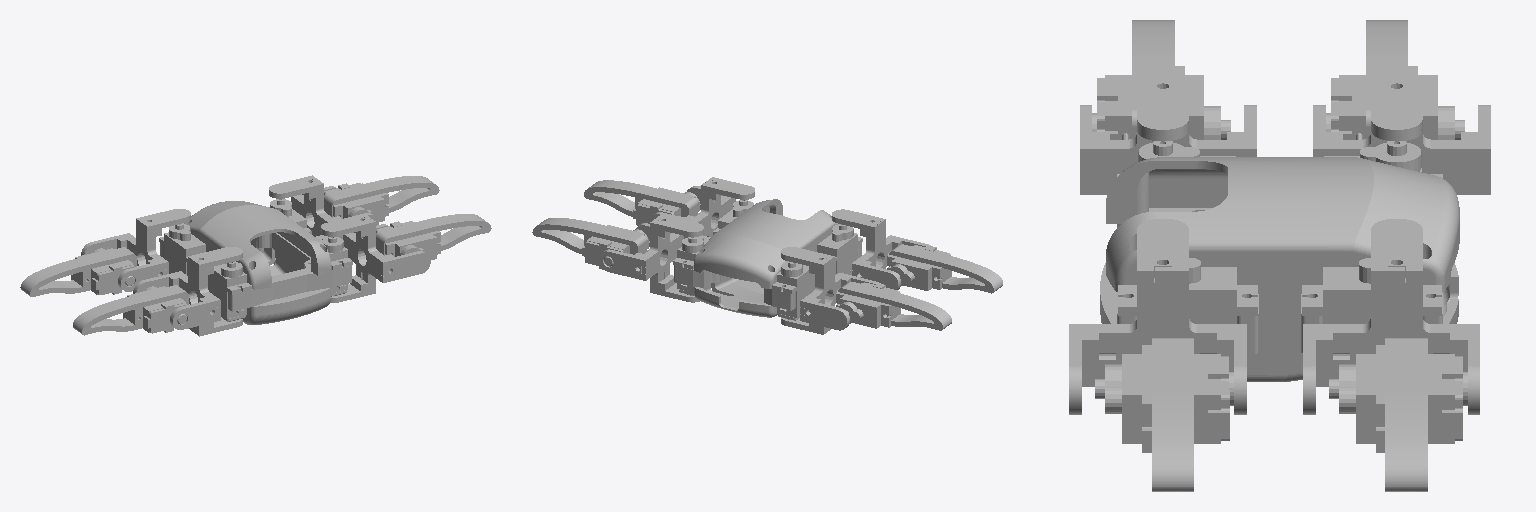
The robot description file, URDF, robot "spiderbot":
<?xml version="1.0" encoding="utf-8" ?>
<!-- This URDF was automatically created by SolidWorks to URDF Exporter! Originally created by [author] ([email redacted]) 
     Commit Version: 1.5.1-0-g916b5db  Build Version: 1.5.7152.31018
     For more information, please see http://wiki.ros.org/sw_urdf_exporter -->
<robot name="spiderbot">
    <link name="base_link">
        <inertial>
            <origin xyz="6.52377531783468E-05 -0.0021170715917473 0.0364107331720625" rpy="0 0 0" />
            <mass value="1.0797" />
            <inertia ixx="3.02647463521448E-05" ixy="1.57081847985685E-09" ixz="3.15890627766527E-11" iyy="1.78058902607528E-05" iyz="-1.01459254458863E-07" izz="4.36287378114362E-05" />
        </inertial>
        <visual>
            <origin xyz="0 0 0" rpy="0 0 0" />
            <geometry>
                <mesh filename="package://spiderbot/meshes/my_spider/base_link.STL" />
            </geometry>
            <material name="">
                <color rgba="0.752941176470588 0.752941176470588 0.752941176470588 1" />
            </material>
        </visual>
        <collision>
            <origin xyz="0 0 0" rpy="0 0 0" />
            <geometry>
                <mesh filename="package://spiderbot/meshes/my_spider/base_link.STL" />
            </geometry>
        </collision>
    </link>
    <link name="front_right_link0">
        <inertial>
            <origin xyz="-0.020499999920902 0.000389285101961867 0.0198892805772913" rpy="0 0 0" />
            <mass value="0.071655" />
            <inertia ixx="7.56087099566393E-07" ixy="2.42840649896817E-09" ixz="-2.42840649896825E-09" iyy="5.95760525058341E-07" iyz="2.50084225320641E-09" izz="5.95760523642093E-07" />
        </inertial>
        <visual>
            <origin xyz="0 0 0" rpy="0 0 0" />
            <geometry>
                <mesh filename="package://spiderbot/meshes/my_spider/r1.STL" />
            </geometry>
            <material name="">
                <color rgba="0.752941176470588 0.752941176470588 0.752941176470588 1" />
            </material>
        </visual>
        <collision>
            <origin xyz="0 0 0" rpy="0 0 0" />
            <geometry>
                <mesh filename="package://spiderbot/meshes/my_spider/r1.STL" />
            </geometry>
        </collision>
    </link>
    <joint name="joint_front_right_link0" type="revolute">
        <origin xyz="-0.030488 -0.027296 0.0193" rpy="0 0 0" />
        <parent link="base_link" />
        <child link="front_right_link0" />
        <axis xyz="0 0 -1" />
        <limit lower="-0.5236" upper="0.5236" effort="2" velocity="0.02" />
    </joint>
    <link name="front_right_link1">
        <inertial>
            <origin xyz="-0.0103855500283455 0.0172280687962712 0.000907834339010391" rpy="0 0 0" />
            <mass value="0.069773" />
            <inertia ixx="6.06191507620996E-07" ixy="-2.6357706811751E-08" ixz="-4.62613535616074E-08" iyy="2.09883870458556E-06" iyz="-5.7703659796975E-16" izz="2.33635633104651E-06" />
        </inertial>
        <visual>
            <origin xyz="0 0 0" rpy="0 0 0" />
            <geometry>
                <mesh filename="package://spiderbot/meshes/my_spider/sr1.STL" />
            </geometry>
            <material name="">
                <color rgba="0.752941176470588 0.752941176470588 0.752941176470588 1" />
            </material>
        </visual>
        <collision>
            <origin xyz="0 0 0" rpy="0 0 0" />
            <geometry>
                <mesh filename="package://spiderbot/meshes/my_spider/sr1.STL" />
            </geometry>
        </collision>
    </link>
    <joint name="joint_front_right_link1" type="revolute">
        <origin xyz="-0.041 -0.0195 0.0195" rpy="0 0 0" />
        <parent link="front_right_link0" />
        <child link="front_right_link1" />
        <axis xyz="0 -1 0" />
        <limit lower="-0.523599" upper="0.523599" effort="2" velocity="0.02" />
    </joint>
    <!-- left link front -->
    <link name="front_left_link0">
        <inertial>
            <origin xyz="-0.020499999920902 0.000389285101961867 0.0198892805772913" rpy="0 0 0" />
            <mass value="0.071655" />
            <inertia ixx="7.56087099566393E-07" ixy="2.42840649896817E-09" ixz="-2.42840649896825E-09" iyy="5.95760525058341E-07" iyz="2.50084225320641E-09" izz="5.95760523642093E-07" />
        </inertial>
        <visual>
            <origin xyz="0 0 0" rpy="0 0 0" />
            <geometry>
                <mesh filename="package://spiderbot/meshes/my_spider/r1.STL" />
            </geometry>
            <material name="">
                <color rgba="0.752941176470588 0.752941176470588 0.752941176470588 1" />
            </material>
        </visual>
        <collision>
            <origin xyz="0 0 0" rpy="0 0 0" />
            <geometry>
                <mesh filename="package://spiderbot/meshes/my_spider/r1.STL" />
            </geometry>
        </collision>
    </link>
    <joint name="joint_front_left_link0" type="revolute">
        <origin xyz="0.030488 -0.027296 0.0193" rpy="0 0 3.1417" />
        <parent link="base_link" />
        <child link="front_left_link0" />
        <axis xyz="0 0 -1" />
        <limit lower="-0.523599" upper="0.523599" effort="2" velocity="0.02" />
    </joint>
    <link name="front_left_link1">
        <inertial>
            <origin xyz="-0.0103855500283455 0.0172280687962712 0.000907834339010391" rpy="0 0 0" />
            <mass value="0.069773" />
            <inertia ixx="6.06191507620996E-07" ixy="-2.6357706811751E-08" ixz="-4.62613535616074E-08" iyy="2.09883870458556E-06" iyz="-5.7703659796975E-16" izz="2.33635633104651E-06" />
        </inertial>
        <visual>
            <origin xyz="0 0 0" rpy="0 0 0" />
            <geometry>
                <mesh filename="package://spiderbot/meshes/my_spider/sr1.STL" />
            </geometry>
            <material name="">
                <color rgba="0.752941176470588 0.752941176470588 0.752941176470588 1" />
            </material>
        </visual>
        <collision>
            <origin xyz="0 0 0" rpy="0 0 0" />
            <geometry>
                <mesh filename="package://spiderbot/meshes/my_spider/sr1.STL" />
            </geometry>
        </collision>
    </link>
    <joint name="joint_front_left_link1" type="revolute">
        <origin xyz="-0.041 -0.0195 0.0195" rpy="0 0 0" />
        <parent link="front_left_link0" />
        <child link="front_left_link1" />
        <axis xyz="0 -1 0" />
        <limit lower="-0.523599" upper="0.523599" effort="2" velocity="0.02" />
    </joint>
    <link name="rear_right_link0">
        <inertial>
            <origin xyz="-0.020499999920902 0.000389285101961867 0.0198892805772913" rpy="0 0 0" />
            <mass value="0.071655" />
            <inertia ixx="7.56087099566393E-07" ixy="2.42840649896817E-09" ixz="-2.42840649896825E-09" iyy="5.95760525058341E-07" iyz="2.50084225320641E-09" izz="5.95760523642093E-07" />
        </inertial>
        <visual>
            <origin xyz="0 0 0" rpy="0 0 0" />
            <geometry>
                <mesh filename="package://spiderbot/meshes/my_spider/r1.STL" />
            </geometry>
            <material name="">
                <color rgba="0.752941176470588 0.752941176470588 0.752941176470588 1" />
            </material>
        </visual>
        <collision>
            <origin xyz="0 0 0" rpy="0 0 0" />
            <geometry>
                <mesh filename="package://spiderbot/meshes/my_spider/r1.STL" />
            </geometry>
        </collision>
    </link>
    <joint name="joint_rear_right_link0" type="revolute">
        <origin xyz="-0.030488 0.027296 0.0193" rpy="0 0 0" />
        <parent link="base_link" />
        <child link="rear_right_link0" />
        <axis xyz="0 0 -1" />
        <limit lower="-0.523599" upper="0.523599" effort="2" velocity="0.02" />
    </joint>
    <link name="rear_right_link1">
        <inertial>
            <origin xyz="-0.0103855500283455 0.0172280687962712 0.000907834339010391" rpy="0 0 0" />
            <mass value="0.069773" />
            <inertia ixx="6.06191507620996E-07" ixy="-2.6357706811751E-08" ixz="-4.62613535616074E-08" iyy="2.09883870458556E-06" iyz="-5.7703659796975E-16" izz="2.33635633104651E-06" />
        </inertial>
        <visual>
            <origin xyz="0 0 0" rpy="0 0 0" />
            <geometry>
                <mesh filename="package://spiderbot/meshes/my_spider/sr1.STL" />
            </geometry>
            <material name="">
                <color rgba="0.752941176470588 0.752941176470588 0.752941176470588 1" />
            </material>
        </visual>
        <collision>
            <origin xyz="0 0 0" rpy="0 0 0" />
            <geometry>
                <mesh filename="package://spiderbot/meshes/my_spider/sr1.STL" />
            </geometry>
        </collision>
    </link>
    <joint name="joint_rear_right_link1" type="revolute">
        <origin xyz="-0.041 -0.0195 0.0195" rpy="0 0 0" />
        <parent link="rear_right_link0" />
        <child link="rear_right_link1" />
        <axis xyz="0 -1 0" />
        <limit lower="-0.5236" upper="0.5236" effort="2" velocity="0.02" />
    </joint>
    <!-- back left -->
    <link name="rear_left_link0">
        <inertial>
            <origin xyz="-0.020499999920902 0.000389285101961867 0.0198892805772913" rpy="0 0 0" />
            <mass value="0.071655" />
            <inertia ixx="7.56087099566393E-07" ixy="2.42840649896817E-09" ixz="-2.42840649896825E-09" iyy="5.95760525058341E-07" iyz="2.50084225320641E-09" izz="5.95760523642093E-07" />
        </inertial>
        <visual>
            <origin xyz="0 0 0" rpy="0 0 0" />
            <geometry>
                <mesh filename="package://spiderbot/meshes/my_spider/r1.STL" />
            </geometry>
            <material name="">
                <color rgba="0.752941176470588 0.752941176470588 0.752941176470588 1" />
            </material>
        </visual>
        <collision>
            <origin xyz="0 0 0" rpy="0 0 0" />
            <geometry>
                <mesh filename="package://spiderbot/meshes/my_spider/r1.STL" />
            </geometry>
        </collision>
    </link>
    <joint name="joint_rear_left_link0" type="revolute">
        <origin xyz="0.030488 0.027296 0.0193" rpy="0 0 3.1417" />
        <parent link="base_link" />
        <child link="rear_left_link0" />
        <axis xyz="0 0 -1" />
        <limit lower="-0.523599" upper="0.523599" effort="2" velocity="0.02" />
    </joint>
    <link name="rear_left_link1">
        <inertial>
            <origin xyz="-0.0103855500283455 0.0172280687962712 0.000907834339010391" rpy="0 0 0" />
            <mass value="0.069773" />
            <inertia ixx="6.06191507620996E-07" ixy="-2.6357706811751E-08" ixz="-4.62613535616074E-08" iyy="2.09883870458556E-06" iyz="-5.7703659796975E-16" izz="2.33635633104651E-06" />
        </inertial>
        <visual>
            <origin xyz="0 0 0" rpy="0 0 0" />
            <geometry>
                <mesh filename="package://spiderbot/meshes/my_spider/sr1.STL" />
            </geometry>
            <material name="">
                <color rgba="0.752941176470588 0.752941176470588 0.752941176470588 1" />
            </material>
        </visual>
        <collision>
            <origin xyz="0 0 0" rpy="0 0 0" />
            <geometry>
                <mesh filename="package://spiderbot/meshes/my_spider/sr1.STL" />
            </geometry>
        </collision>
    </link>
    <joint name="joint_rear_left_link1" type="revolute">
        <origin xyz="-0.041 -0.0195 0.0195" rpy="0 0 0" />
        <parent link="rear_left_link0" />
        <child link="rear_left_link1" />
        <axis xyz="0 -1 0" />
        <limit lower="-0.523599" upper="0.523599" effort="2" velocity="0.02" />
    </joint>
   
    <!--Transmission Definitions -->
 <!--Transmission Front Right Links -->
 <transmission name="transmission_front_right_link0">
  <type>SimpleTransmission</type>
  <joint name="joint_front_right_link0">
    <hardwareInterface>hardware_interface/EffortJointInterface</hardwareInterface>
  </joint>
  <actuator name="motor_front_right_link0">
    <mechanicalReduction>1</mechanicalReduction>
    <hardwareInterface>VelocityJointInterface</hardwareInterface>
  </actuator>
</transmission>

<transmission name="transmission_front_right_link1">
  <type>SimpleTransmission</type>
  <joint name="joint_front_right_link1">
    <hardwareInterface>hardware_interface/EffortJointInterface</hardwareInterface>
  </joint>
  <actuator name="motor_front_right_link1">
    <mechanicalReduction>1</mechanicalReduction>
    <hardwareInterface>VelocityJointInterface</hardwareInterface>
  </actuator>
</transmission>

<!--Transmission Front Left Links -->
<transmission name="transmission_front_left_link0">
  <type>SimpleTransmission</type>
  <joint name="joint_front_left_link0">
    <hardwareInterface>hardware_interface/EffortJointInterface</hardwareInterface>
  </joint>
  <actuator name="motor_front_left_link0">
    <mechanicalReduction>1</mechanicalReduction>
    <hardwareInterface>VelocityJointInterface</hardwareInterface>
  </actuator>
</transmission>

<transmission name="transmission_front_left_link1">
  <type>SimpleTransmission</type>
  <joint name="joint_front_left_link1">
    <hardwareInterface>hardware_interface/EffortJointInterface</hardwareInterface>
  </joint>
  <actuator name="motor_front_left_link1">
    <mechanicalReduction>1</mechanicalReduction>
    <hardwareInterface>VelocityJointInterface</hardwareInterface>
  </actuator>
</transmission>

  <!--Transmission Rear Right Links -->
<transmission name="transmission_rear_right_link0">
  <type>SimpleTransmission</type>
  <joint name="joint_rear_right_link0">
    <hardwareInterface>hardware_interface/EffortJointInterface</hardwareInterface>
  </joint>
  <actuator name="motor_rear_right_link0">
    <mechanicalReduction>1</mechanicalReduction>
    <hardwareInterface>VelocityJointInterface</hardwareInterface>
  </actuator>
</transmission>

<transmission name="transmission_rear_right_link1">
  <type>SimpleTransmission</type>
  <joint name="joint_rear_right_link1">
    <hardwareInterface>hardware_interface/EffortJointInterface</hardwareInterface>
  </joint>
  <actuator name="motor_rear_right_link1">
    <mechanicalReduction>1</mechanicalReduction>
    <hardwareInterface>VelocityJointInterface</hardwareInterface>
  </actuator>
</transmission>

<!--Transmission Rear Left Links -->
<transmission name="transmission_rear_left_link0">
  <type>SimpleTransmission</type>
  <joint name="joint_rear_left_link0">
    <hardwareInterface>hardware_interface/EffortJointInterface</hardwareInterface>
  </joint>
  <actuator name="motor_rear_left_link0">
    <mechanicalReduction>1</mechanicalReduction>
    <hardwareInterface>VelocityJointInterface</hardwareInterface>
  </actuator>
</transmission>

<transmission name="transmission_rear_left_link1">
  <type>SimpleTransmission</type>
  <joint name="joint_rear_left_link1">
    <hardwareInterface>hardware_interface/EffortJointInterface</hardwareInterface>
  </joint>
  <actuator name="motor_rear_left_link1">
    <mechanicalReduction>1</mechanicalReduction>
    <hardwareInterface>VelocityJointInterface</hardwareInterface>
  </actuator>
</transmission>
</robot>

--- Facts derived from the render (not from the file) ---
The picture shows the robot from 3 angles, left to right: view 1: azimuth 30°, elevation 25°; view 2: azimuth 150°, elevation 25°; view 3: azimuth 270°, elevation 25°; orthographic projection.
Model spiderbot with 9 links and 8 joints (8 revolute), rooted at base_link, posed every joint at zero.
Links seen in each view (by area): view 1: base_link, front_left_link0, front_right_link0, front_right_link1, rear_right_link1, front_left_link1, rear_left_link1, rear_right_link0, rear_left_link0; view 2: base_link, rear_left_link0, rear_right_link1, front_right_link1, rear_right_link0, rear_left_link1, front_left_link1, front_right_link0, front_left_link0; view 3: base_link, rear_left_link1, front_left_link1, front_left_link0, rear_left_link0, rear_right_link0, front_right_link0, front_right_link1, rear_right_link1.
Boxes of the visible links, bbox=[...] form: base_link: bbox=[159, 199, 352, 324]; front_left_link0: bbox=[321, 213, 430, 302]; front_right_link0: bbox=[133, 247, 242, 336]; front_right_link1: bbox=[73, 285, 189, 335]; rear_right_link1: bbox=[20, 247, 137, 296]; front_left_link1: bbox=[376, 214, 491, 259]; rear_left_link1: bbox=[324, 176, 439, 221]; rear_right_link0: bbox=[81, 209, 190, 291]; rear_left_link0: bbox=[269, 175, 378, 264]; base_link: bbox=[673, 199, 862, 320]; rear_left_link0: bbox=[599, 214, 703, 302]; rear_right_link1: bbox=[836, 281, 951, 330]; front_right_link1: bbox=[887, 244, 1002, 293]; rear_right_link0: bbox=[781, 247, 880, 334]; rear_left_link1: bbox=[532, 218, 648, 269]; front_left_link1: bbox=[584, 180, 699, 225]; front_right_link0: bbox=[832, 209, 930, 289]; front_left_link0: bbox=[650, 177, 754, 238]; base_link: bbox=[1100, 141, 1459, 381]; rear_left_link1: bbox=[1329, 338, 1467, 491]; front_left_link1: bbox=[1095, 338, 1233, 491]; front_left_link0: bbox=[1069, 219, 1246, 414]; rear_left_link0: bbox=[1303, 219, 1479, 414]; rear_right_link0: bbox=[1313, 77, 1490, 194]; front_right_link0: bbox=[1080, 77, 1256, 194]; front_right_link1: bbox=[1092, 20, 1230, 139]; rear_right_link1: bbox=[1326, 20, 1464, 139].
Bounding box of the posed robot: 0.2508 × 0.0986 × 0.0433 m (x, y, z).
9 mesh visuals loaded from 3 distinct referenced files (3 binary STL).
